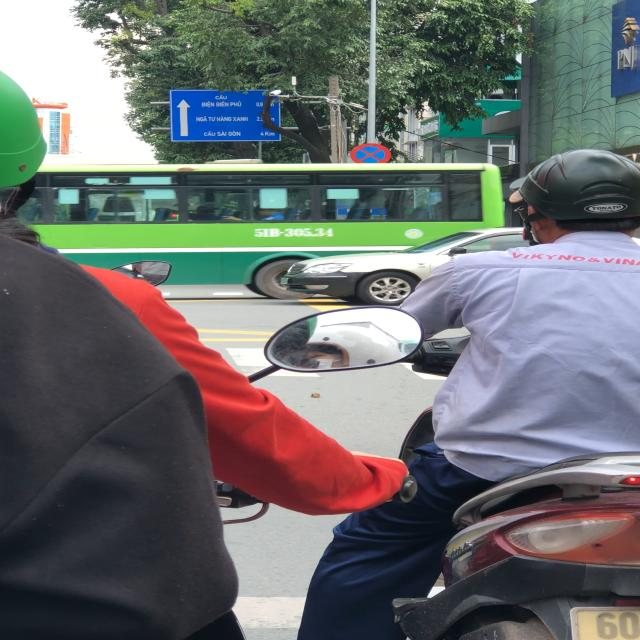Bien bao cam dung xe va do xe: (345, 141, 395, 165)
